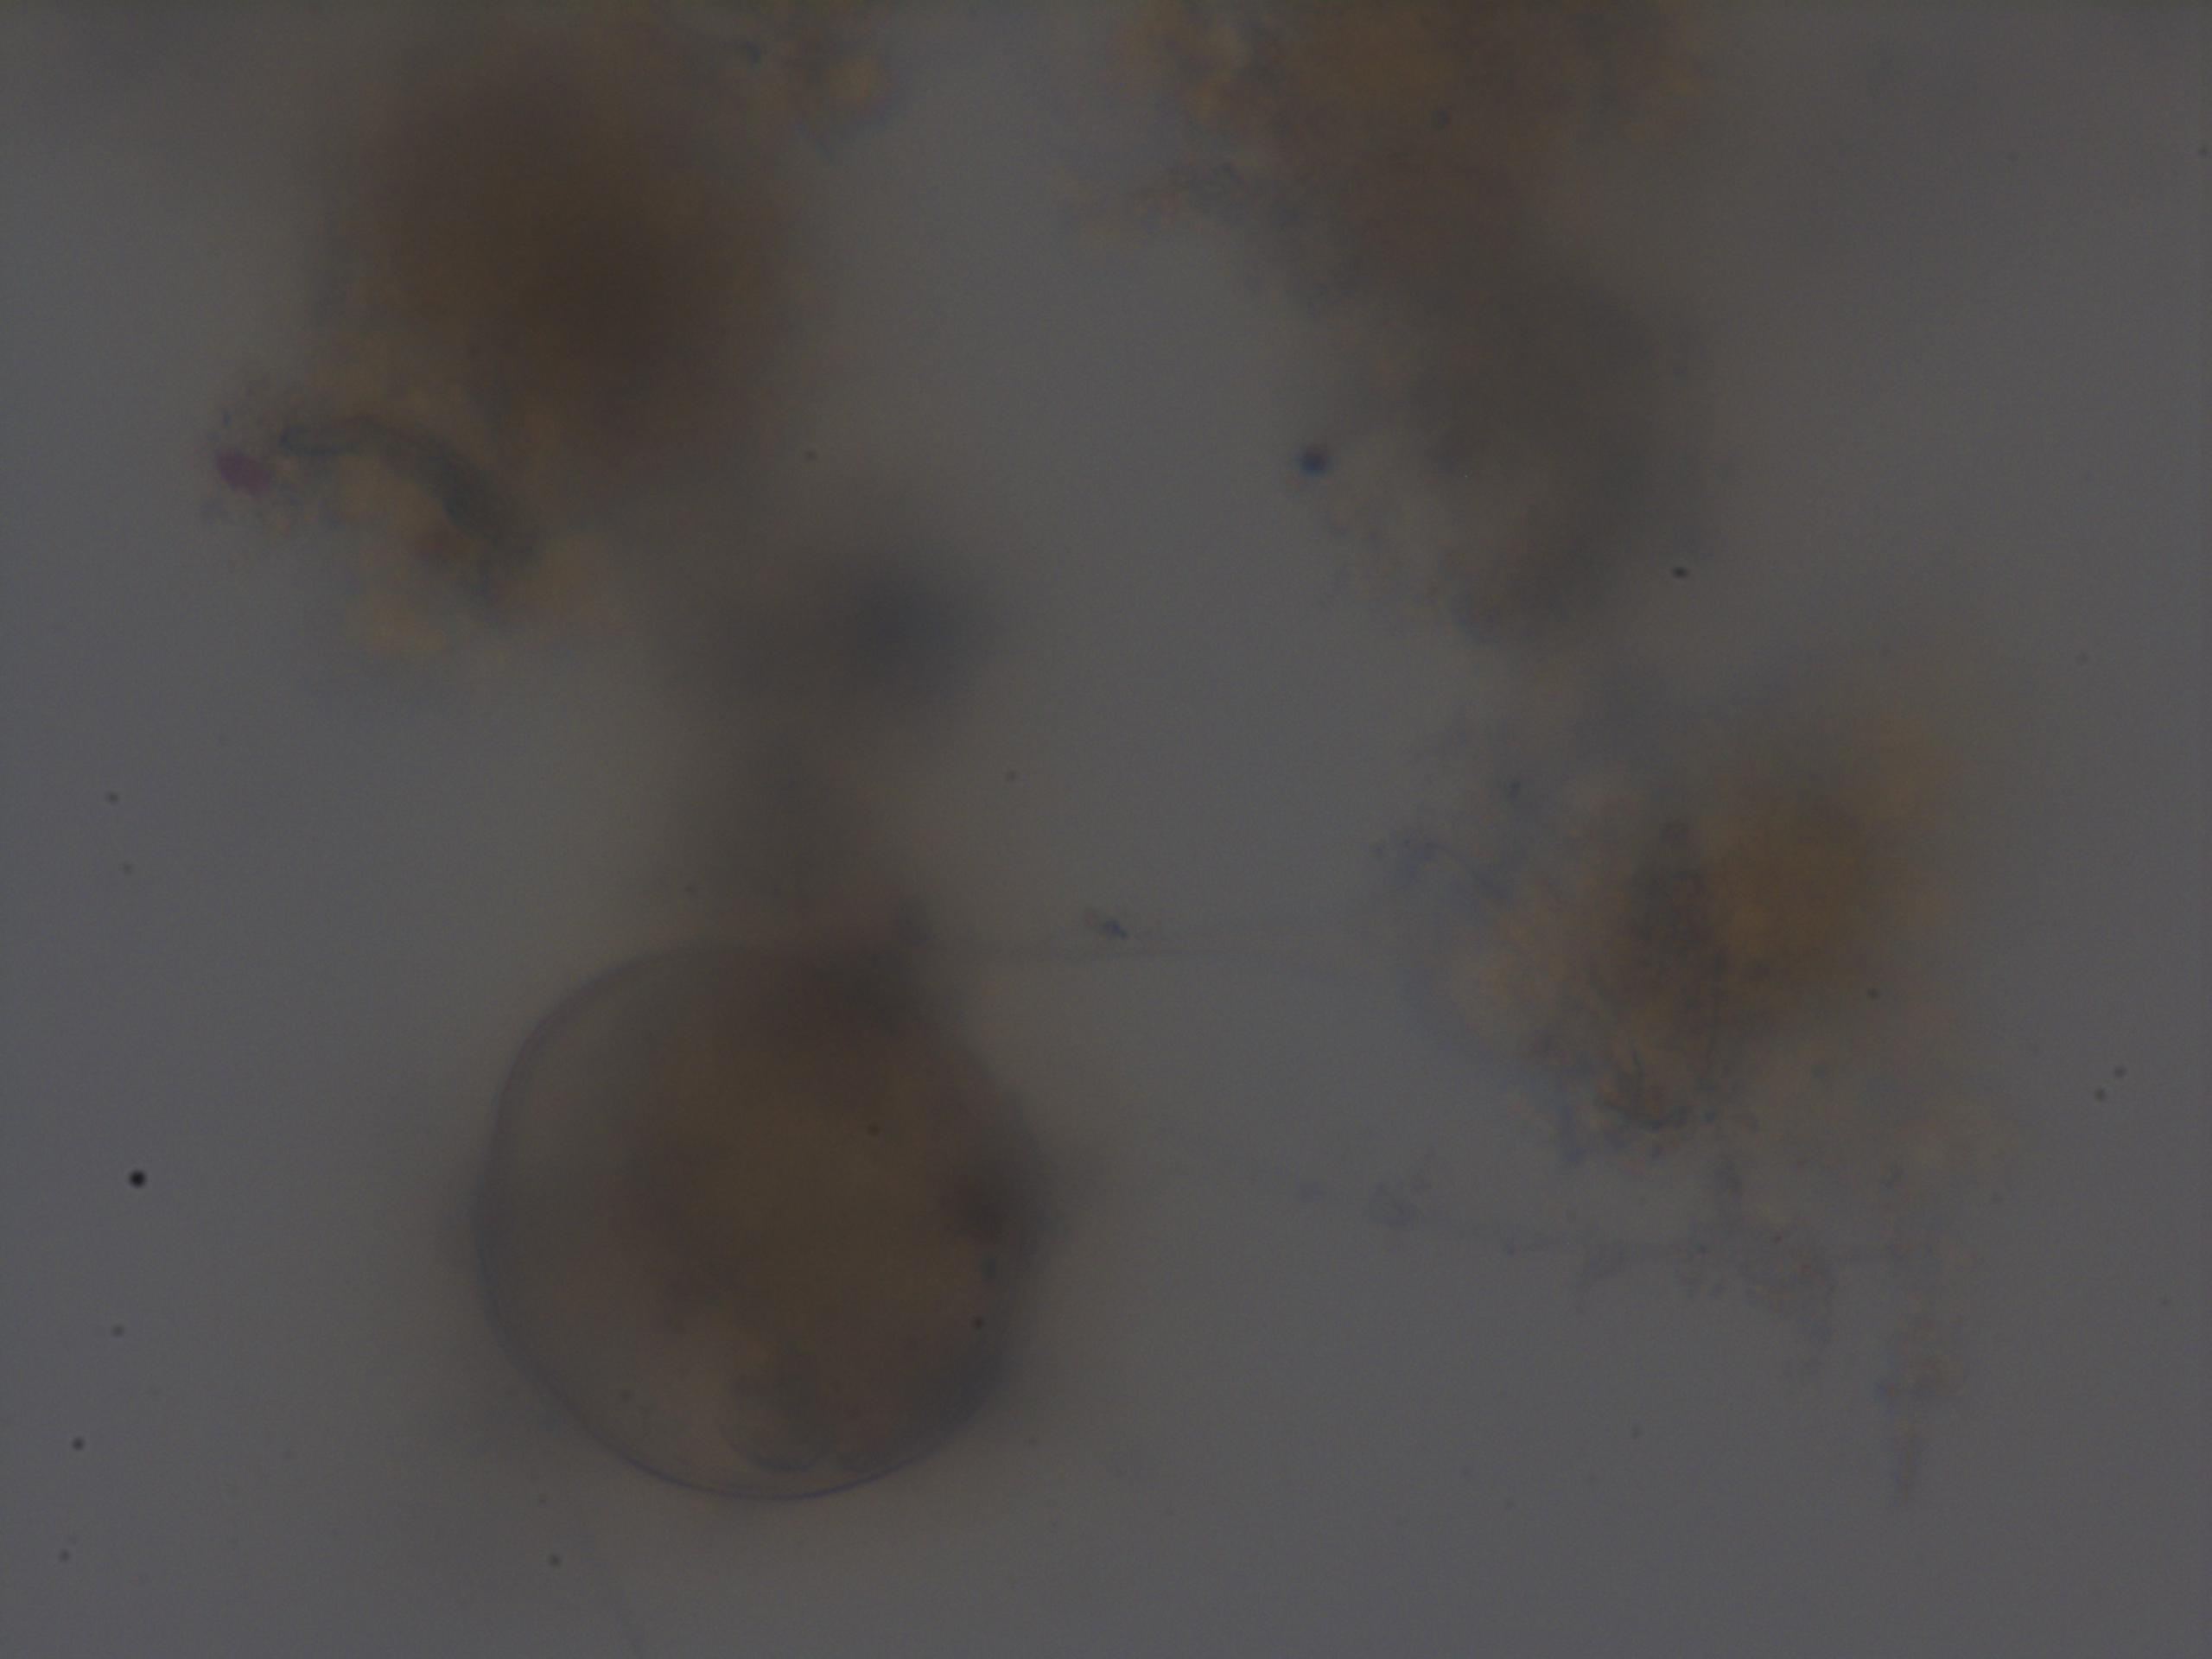protozoa: (458, 925, 1050, 1516)
